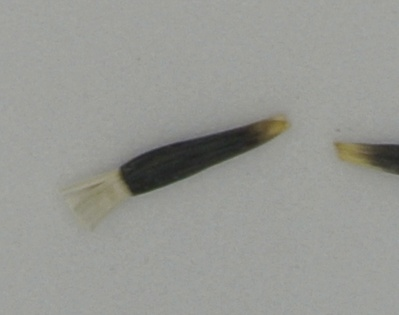เมล็ดดีติดกัน: (58, 107, 297, 235)
